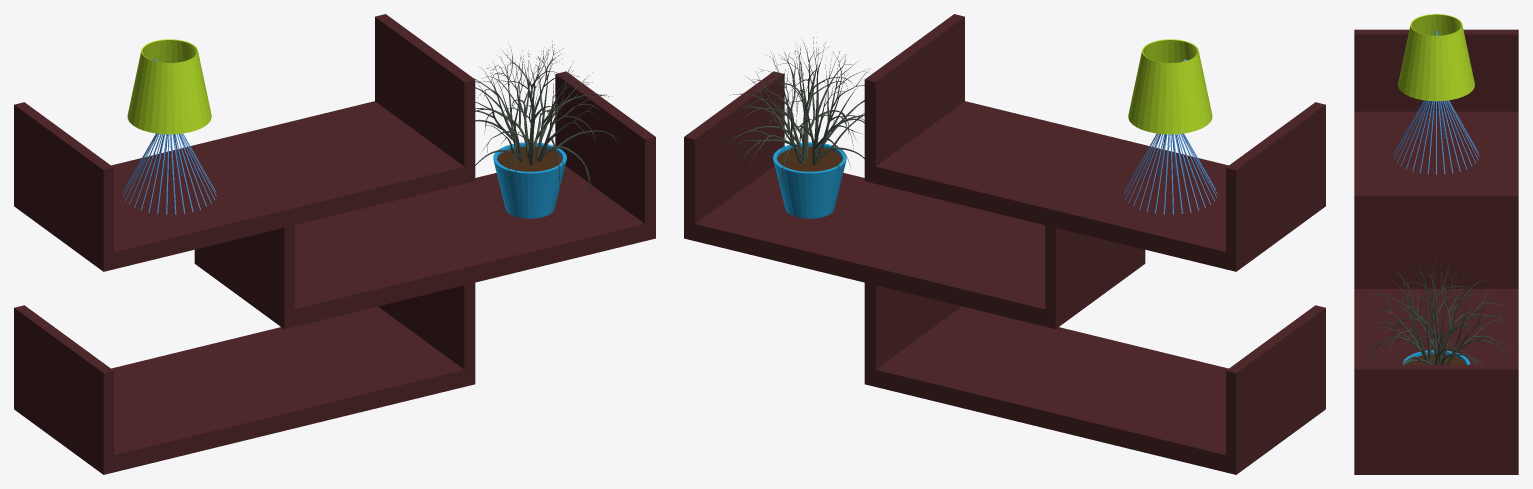
Rendered from polka.fbx.
3 views of the same model, side by side, from view 1: azimuth 30°, elevation 25°; view 2: azimuth 150°, elevation 25°; view 3: azimuth 270°, elevation 25° (orthographic). The views are drawn at different scales.
Parts seen in each view (by area): view 1: Cube.002, Cube, Cube.001, Cylinder.001, tree, Cylinder, Cone; view 2: Cube.002, Cube, Cube.001, Cylinder.001, tree, Cylinder, Cone; view 3: Cube.002, Cube.001, Cylinder.001, tree, Cube, Cone, Cylinder.
Boxes of the visible parts, left/top/right/bottom form: Cube.002: left=14, top=14, right=475, bottom=271; Cube: left=14, top=282, right=475, bottom=474; Cube.001: left=194, top=71, right=655, bottom=329; Cylinder.001: left=127, top=39, right=211, bottom=134; tree: left=468, top=41, right=621, bottom=198; Cylinder: left=493, top=142, right=566, bottom=218; Cone: left=122, top=133, right=216, bottom=214; Cube.002: left=864, top=14, right=1325, bottom=271; Cube: left=864, top=282, right=1325, bottom=474; Cube.001: left=684, top=71, right=1145, bottom=329; Cylinder.001: left=1128, top=39, right=1212, bottom=134; tree: left=728, top=37, right=874, bottom=188; Cylinder: left=773, top=142, right=846, bottom=218; Cone: left=1123, top=133, right=1217, bottom=214; Cube.002: left=1354, top=29, right=1518, bottom=288; Cube.001: left=1354, top=289, right=1518, bottom=462; Cylinder.001: left=1398, top=14, right=1474, bottom=101; tree: left=1361, top=258, right=1513, bottom=364; Cube: left=1354, top=462, right=1518, bottom=474; Cone: left=1393, top=100, right=1479, bottom=174; Cylinder: left=1403, top=350, right=1470, bottom=364.
Bounding box in the file's own units: 508 × 320 × 143.
